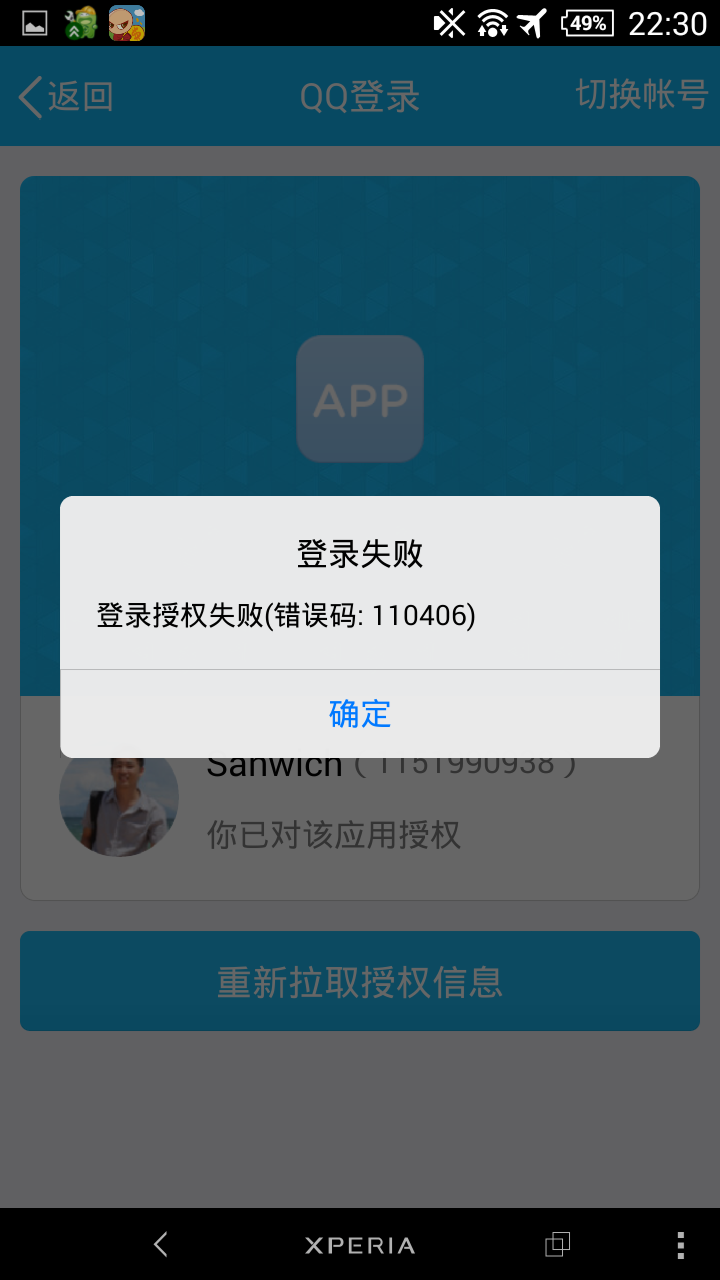alert: (52, 487, 664, 769)
